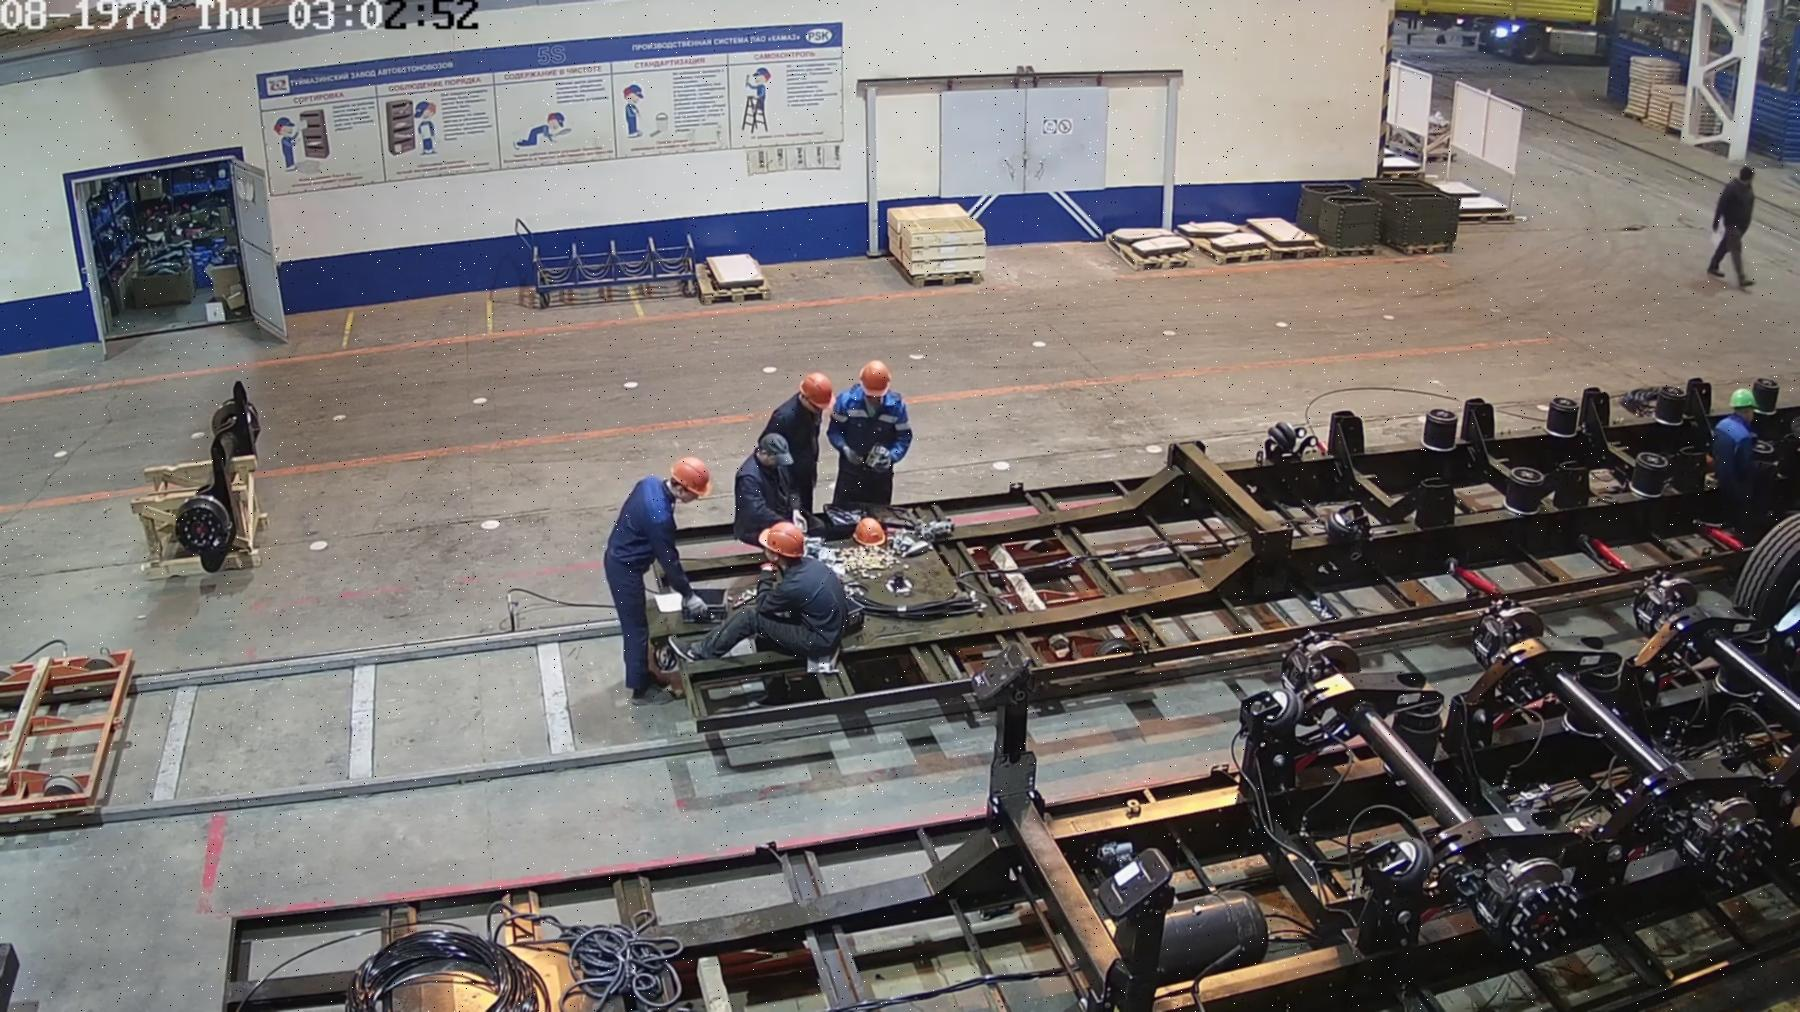helmet: (759, 521, 807, 560), (669, 451, 708, 496), (853, 363, 895, 399), (797, 375, 829, 412), (1727, 381, 1755, 408)
person: (595, 449, 708, 692), (723, 519, 861, 671), (833, 355, 919, 503), (1709, 371, 1776, 527), (1709, 153, 1763, 292), (779, 363, 829, 508), (729, 423, 796, 517)
